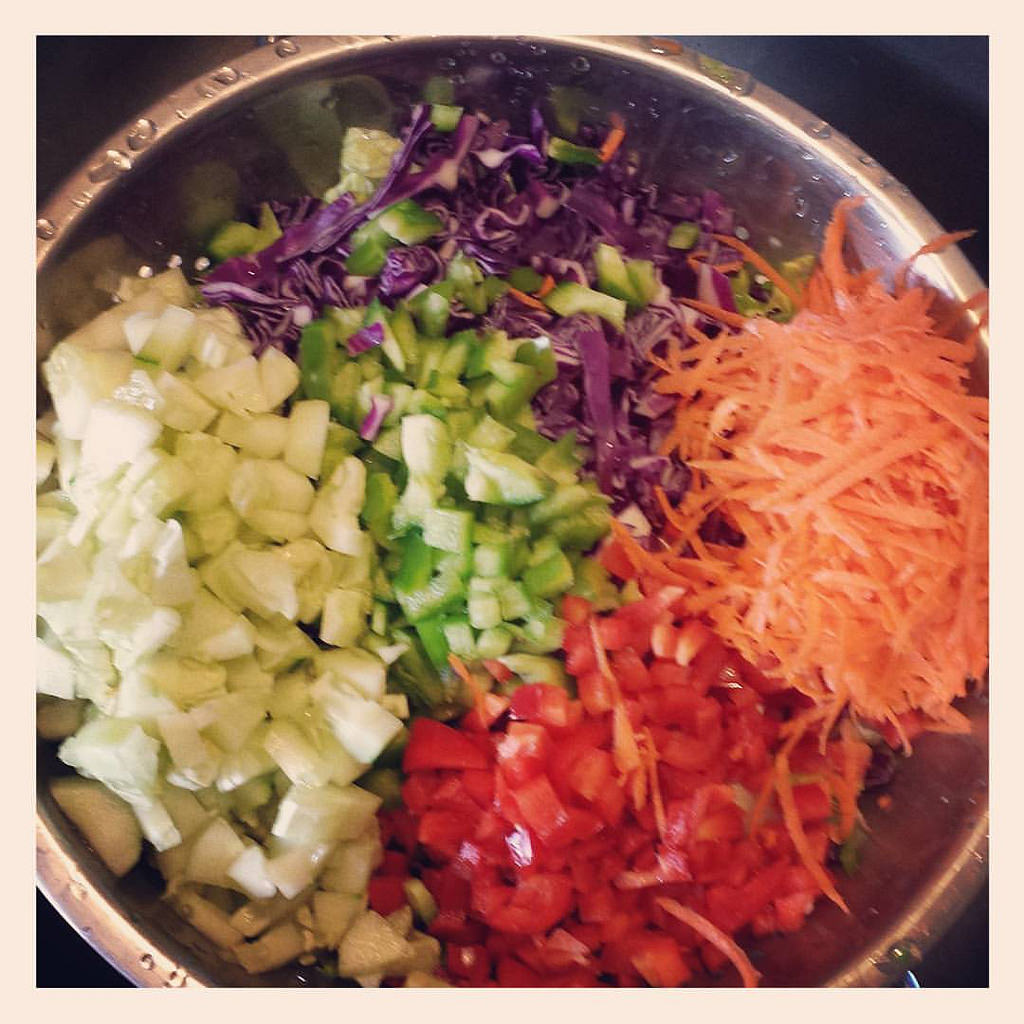chopped lettuce: (311, 273, 599, 660)
